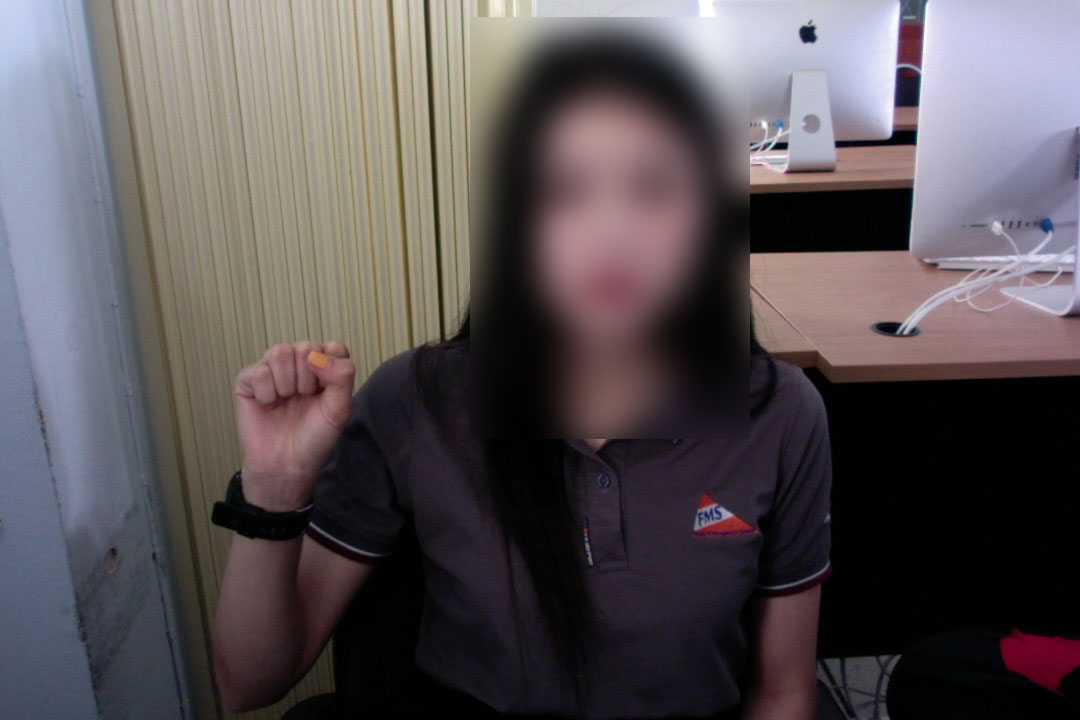sor: (233, 333, 360, 494)
